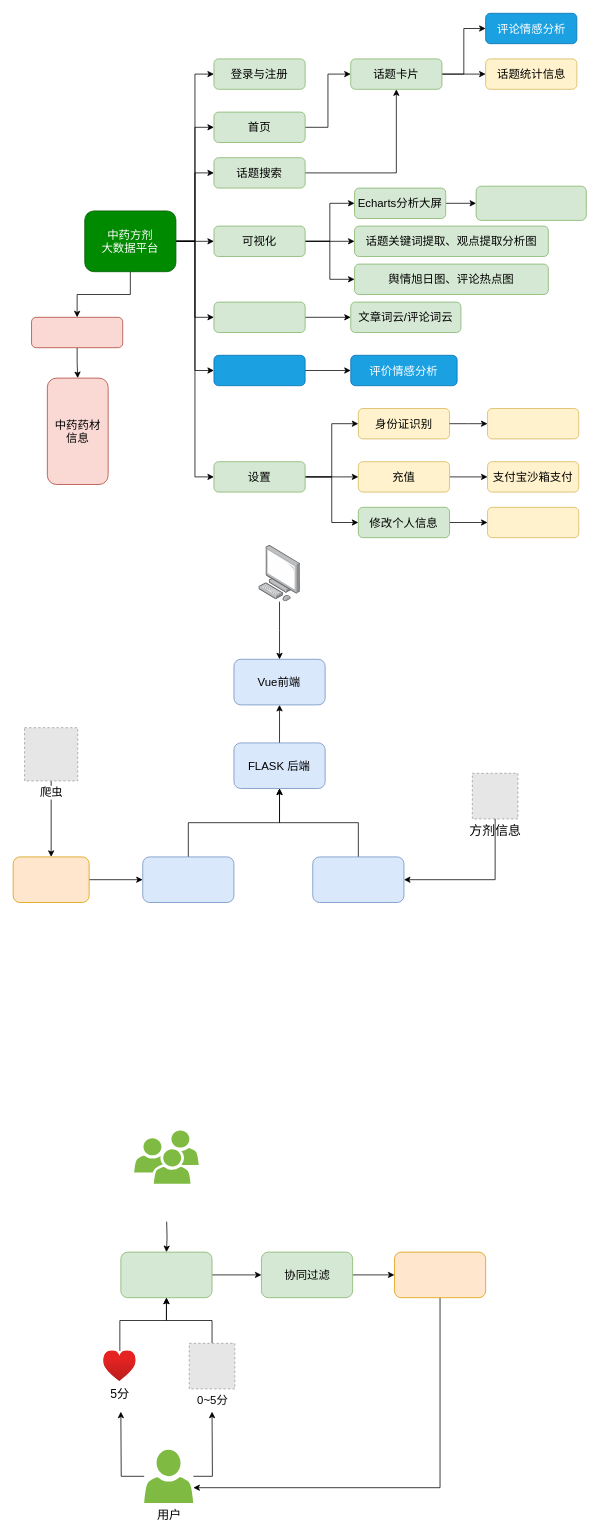
Some shapes in this 600 by 1536 pixel diagram are drawn without their labels. Grey dashed boxes stand in for pictures. The centre of each missing label's shape, as x and y in pixels:
MySQL数据库: (x=188, y=879)
Neo4J数据库: (x=358, y=879)
N个其他用户的评分: (x=166, y=1156)
中药药材信息: (x=50, y=879)
推荐: (x=440, y=1274)
水滴、动态柱状图、饼图、折线图..: (x=530, y=202)
浏览器访问: (x=279, y=573)
深度学习 情感分析模型: (x=259, y=370)
爬虫模块: (x=77, y=332)
百度AI图像识别: (x=533, y=423)
评分数据集: (x=166, y=1274)
词云: (x=259, y=316)
阿里短信验证码修改密码: (x=533, y=522)
